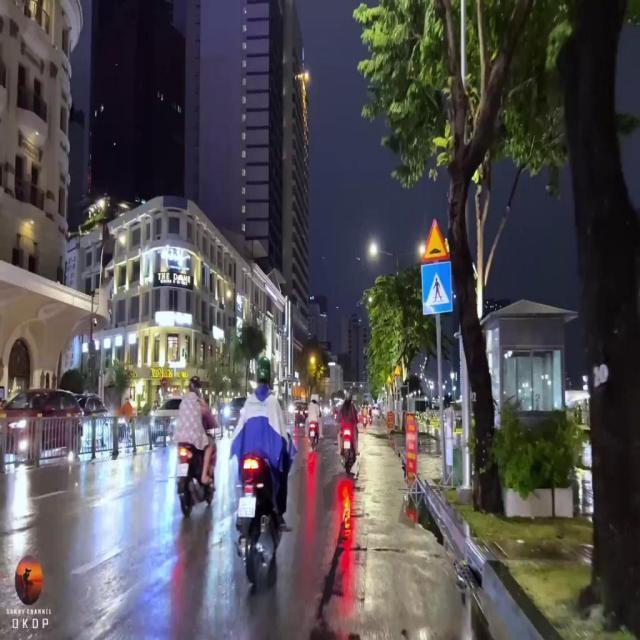221-duong-go-ghe: (421, 218, 449, 262)
224-duong-nguoi-di-bo-cat-ngang: (422, 262, 452, 314)
